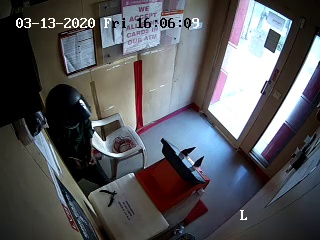helmet: (40, 85, 95, 141)
